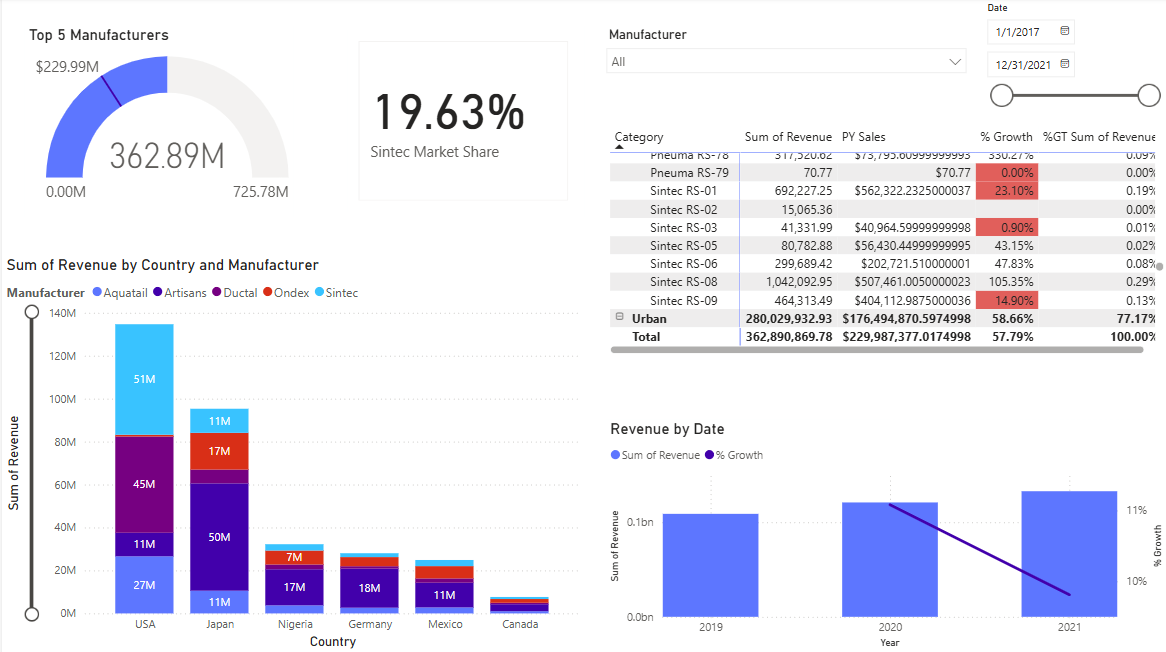

The dashboard page shown, as its layout file describes it:
{"tool":"powerbi","page":{"name":"Page 1","canvas":[1280,720],"ordinal":0},"visuals":[{"type":"columnChart","fields":{"Category":["Sales.Country"],"Y":["Sum(Sales.Revenue)"],"Series":["Manufacturer.Manufacturer"]},"box":[259.1,467.5,491.8,236.8],"z":0},{"type":"gauge","title":"Top 5 Manufacturers","fields":{"Y":["Sum(Sales.Revenue)"],"TargetValue":["Sales.PY Sales"]},"box":[18.4,217.2,217.2,176.7],"z":1000},{"type":"lineClusteredColumnComboChart","title":"Revenue by Date","fields":{"Y":["Sum(Sales.Revenue)"],"Y2":["Sales.% Growth"],"Category":["Date.Date.Variation.Date Hierarchy.Year"]},"box":[769.3,467.5,490.6,235.6],"z":2000},{"type":"slicer","fields":{"Values":["Manufacturer.Logo"]},"box":[18.4,104.3,1241.7,105.5],"z":3000},{"type":"slicer","fields":{"Values":["Date.Date"]},"box":[28.7,552.2,195.1,127.6],"z":4000},{"type":"pivotTable","fields":{"Rows":["Products.Category Hierarchy.Category","Products.Category Hierarchy.Segment","Products.Category Hierarchy.Product"],"Values":["Sum(Sales.Revenue)","Sales.PY Sales","Sales.% Growth","Divide(Sum(Sales.Revenue), ScopedEval(Sum(Sales.Revenue), []))"]},"box":[425.8,209.6,683.4,244.4],"z":5000},{"type":"cardVisual","fields":{"Data":["Sales.Sintec Market Share"]},"box":[18.4,380.4,217.2,173],"z":6000},{"type":"textbox","box":[42.9,0,553.4,127.6],"z":7000}]}

Visuals, with their boxes in screenshot pixels (x1, y1, x2, y2), scaled from the page's 1280x720 canvas onto the 1166x652 screenshot:
columnChart - Sales.Country x Sum(Sales.Revenue): x1=236, y1=423, x2=684, y2=638
"Top 5 Manufacturers" gauge: x1=17, y1=197, x2=215, y2=357
"Revenue by Date" lineClusteredColumnComboChart: x1=701, y1=423, x2=1148, y2=637
slicer - Manufacturer.Logo: x1=17, y1=94, x2=1148, y2=190
slicer - Date.Date: x1=26, y1=500, x2=204, y2=616
pivotTable - Products.Category Hierarchy.Category x Products.Category Hierarchy.Segment: x1=388, y1=190, x2=1010, y2=411
cardVisual - Sales.Sintec Market Share: x1=17, y1=344, x2=215, y2=501
textbox: x1=39, y1=0, x2=543, y2=116
